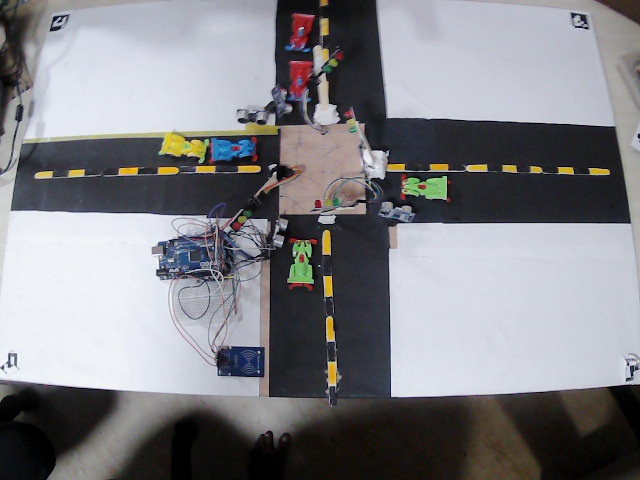aruco_marker: (621, 355, 640, 381), (568, 10, 589, 30), (3, 350, 19, 374), (50, 14, 66, 27)
black_strip: (322, 340, 344, 360), (215, 160, 239, 178), (321, 253, 335, 277), (449, 158, 467, 176), (320, 296, 338, 313), (177, 160, 195, 177), (325, 387, 341, 405), (544, 160, 560, 177), (574, 163, 596, 175), (407, 160, 428, 172), (317, 36, 333, 51), (486, 159, 500, 174), (517, 160, 531, 175), (319, 6, 335, 18), (88, 163, 104, 175), (141, 166, 154, 180), (54, 166, 69, 178), (104, 166, 119, 177)
car: (282, 236, 320, 289), (208, 134, 264, 164), (399, 175, 456, 204), (282, 7, 318, 52), (160, 132, 207, 165), (287, 58, 315, 100)
mixed_lane: (315, 226, 342, 404), (386, 159, 618, 178), (32, 167, 267, 182), (313, 4, 337, 68)
traffic_light: (306, 50, 355, 87), (228, 188, 266, 234), (344, 102, 372, 150), (313, 192, 354, 216)
uno_breadboard: (150, 229, 236, 280), (164, 275, 246, 328), (215, 345, 265, 378), (272, 80, 293, 119), (232, 107, 271, 124), (260, 219, 281, 250)
yellow_strip: (325, 313, 339, 339), (317, 228, 330, 255), (325, 359, 338, 385), (588, 163, 616, 175), (317, 19, 331, 42), (119, 163, 140, 178), (553, 163, 575, 177), (320, 275, 335, 295), (239, 160, 263, 172), (468, 160, 486, 175), (35, 169, 53, 183), (427, 160, 449, 171), (158, 166, 180, 177), (196, 163, 216, 174), (387, 161, 405, 173), (501, 161, 519, 173), (529, 163, 545, 175), (70, 166, 86, 178), (320, 48, 331, 63)
